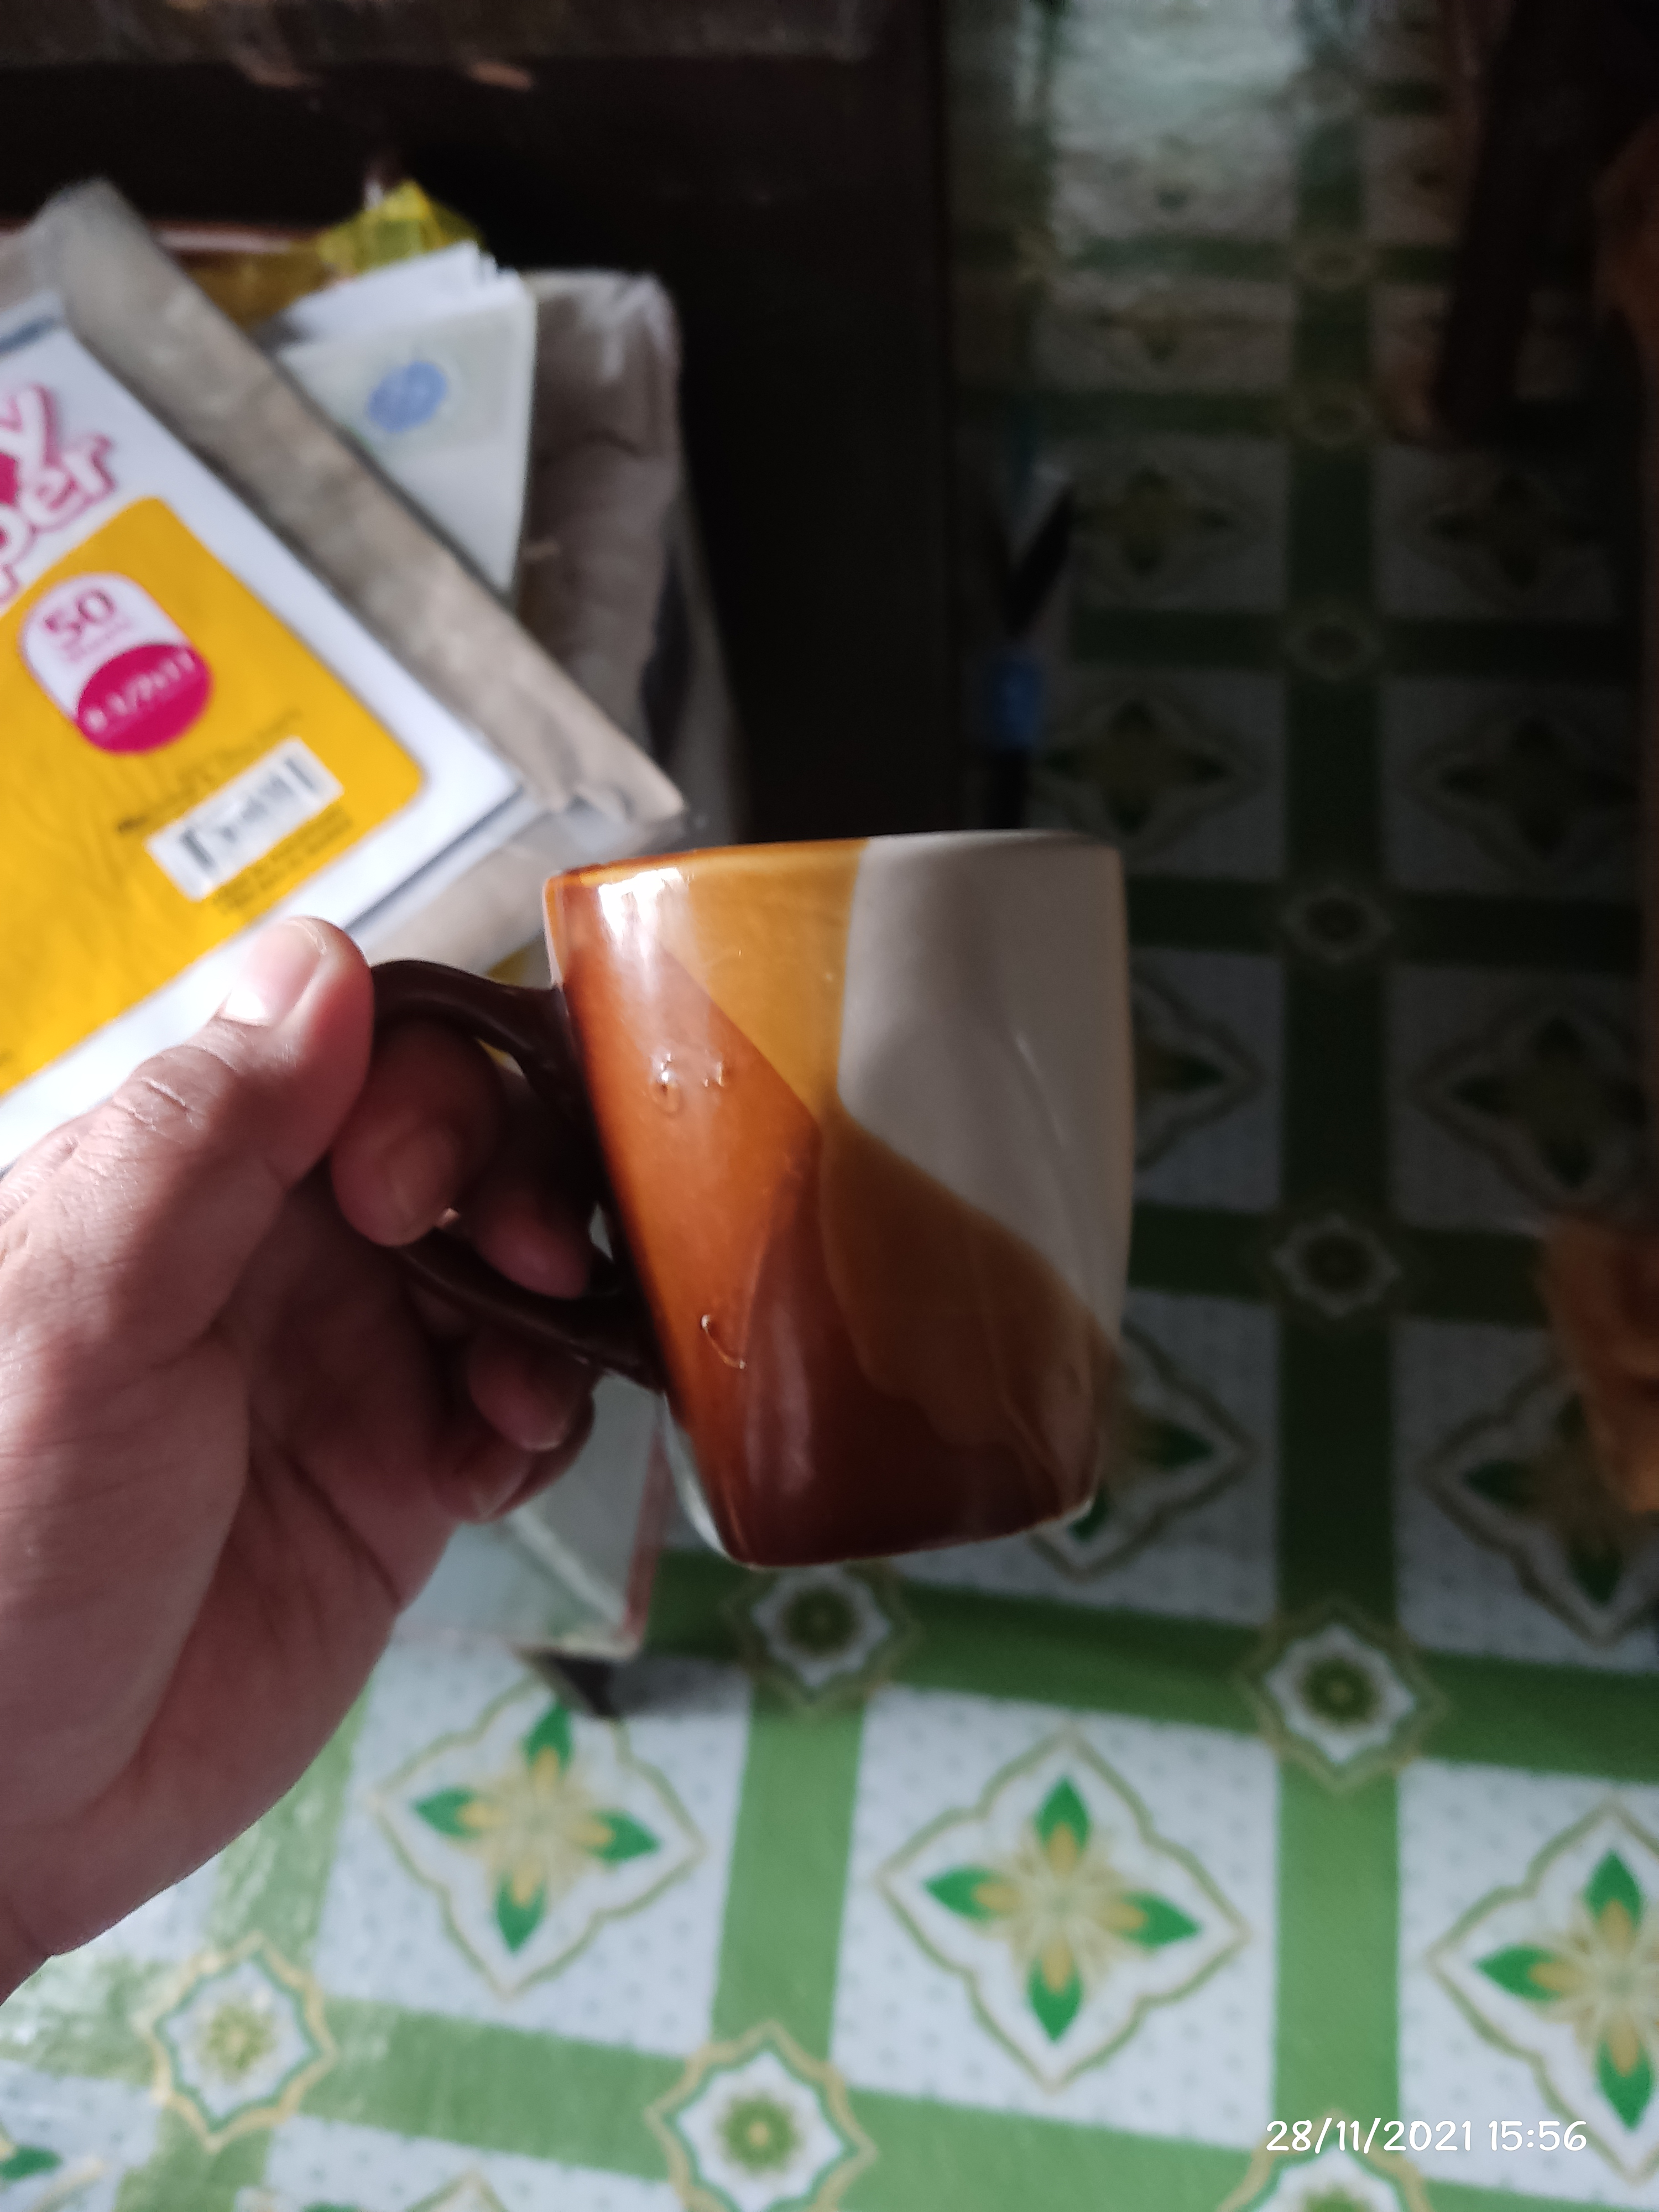mug: (338, 826, 1127, 1571)
